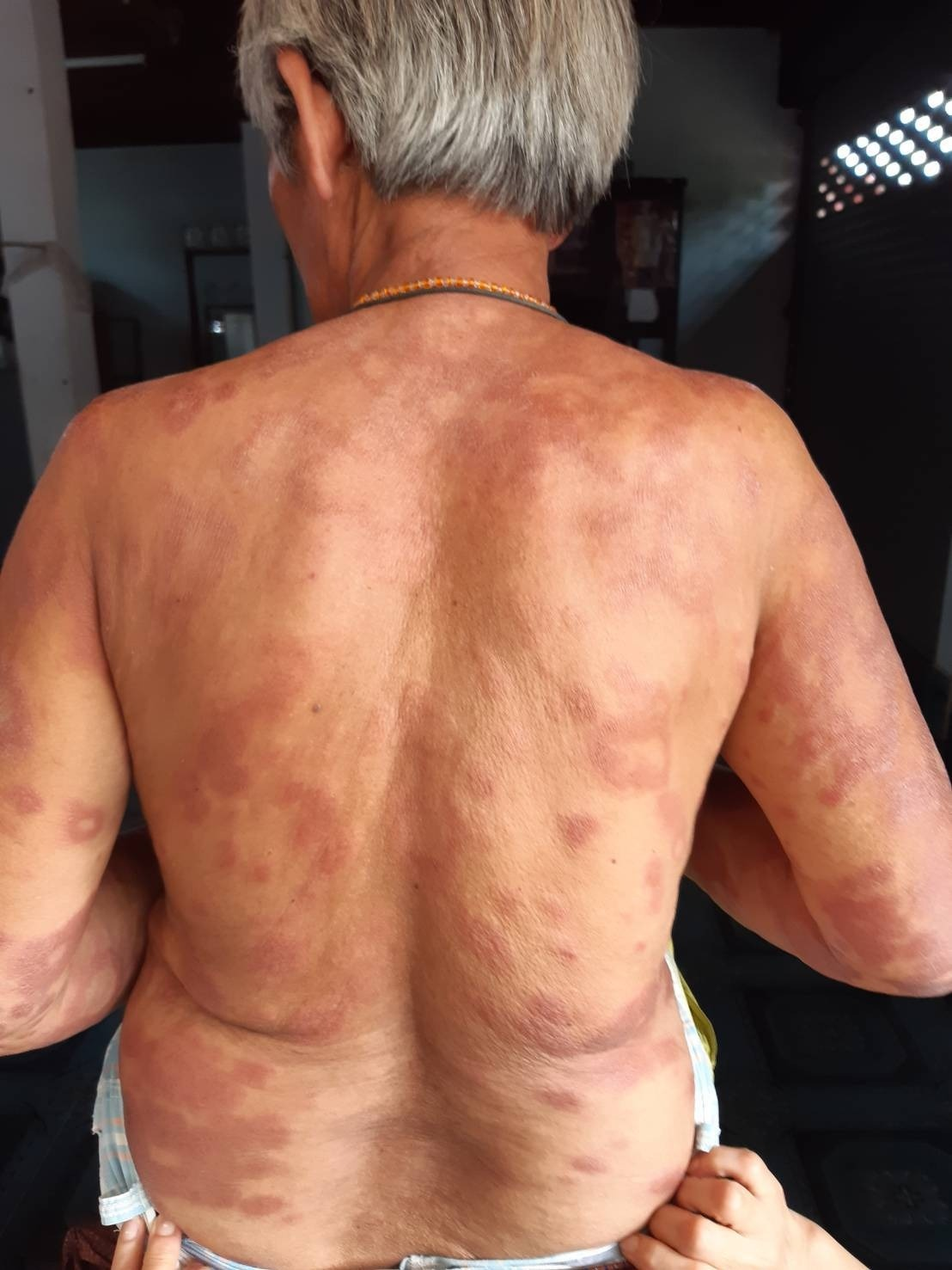Leprosy: (375, 647, 529, 774), (412, 347, 565, 469), (147, 1107, 305, 1221), (160, 678, 273, 821), (499, 960, 644, 1064), (595, 375, 721, 492), (807, 641, 916, 762), (586, 697, 691, 817), (823, 850, 939, 956), (277, 777, 383, 891), (152, 1009, 281, 1098), (296, 943, 400, 1047), (39, 948, 134, 1037), (153, 378, 255, 442), (524, 1064, 610, 1132), (48, 788, 117, 855), (547, 814, 608, 858), (564, 1155, 617, 1183)
